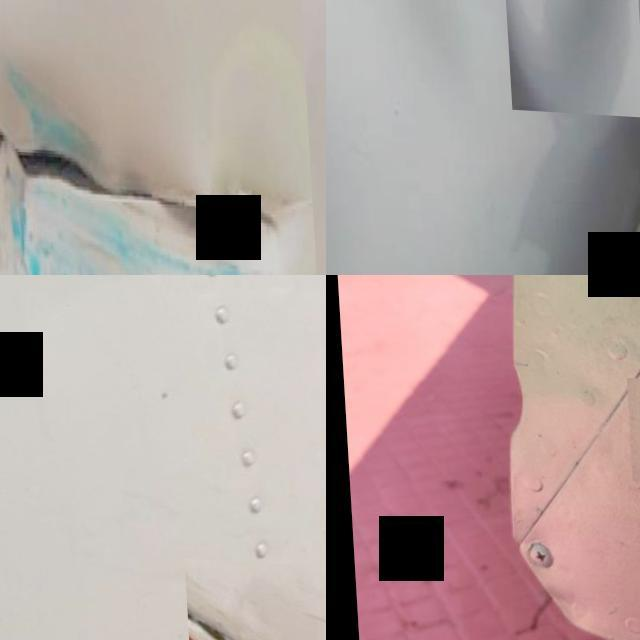Crack: (0, 0, 317, 275), (179, 553, 326, 640)
Dent: (503, 0, 626, 107)
